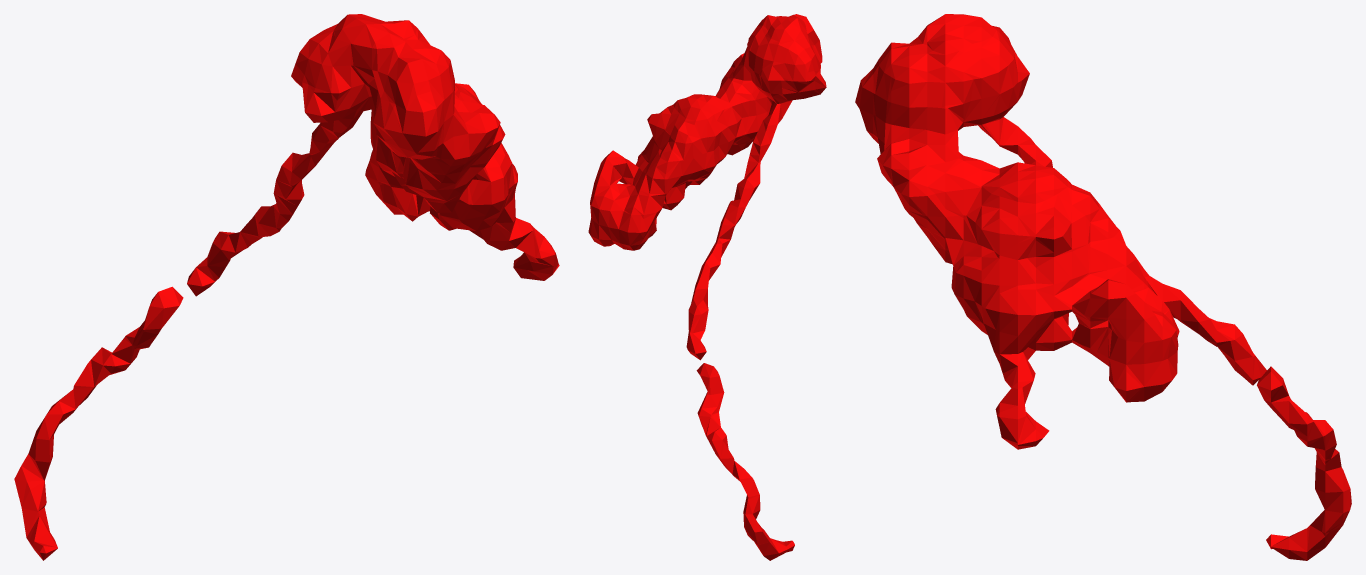
File: gyrA_coarse.dae
3 views of the same model, side by side, from view 1: azimuth 30°, elevation 25°; view 2: azimuth 150°, elevation 25°; view 3: azimuth 270°, elevation 25° (orthographic). The views are drawn at different scales.
Visible parts, largest first — view 1: gyrA; view 2: gyrA; view 3: gyrA.
Part boxes in pixels (box(x1,y1,x2,y2)): gyrA: box(14, 14, 559, 560); gyrA: box(588, 14, 826, 560); gyrA: box(855, 14, 1351, 560).
Bounding box in the file's own units: 153 × 232 × 170.
